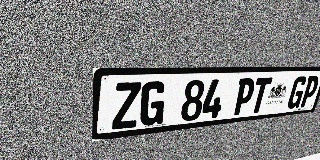4: (201, 79, 227, 119)
8: (180, 80, 207, 122)
G: (139, 81, 167, 127), (286, 76, 309, 109)
P: (232, 78, 257, 116), (299, 76, 320, 108)
T: (248, 77, 273, 114)
Z: (112, 82, 142, 130)
